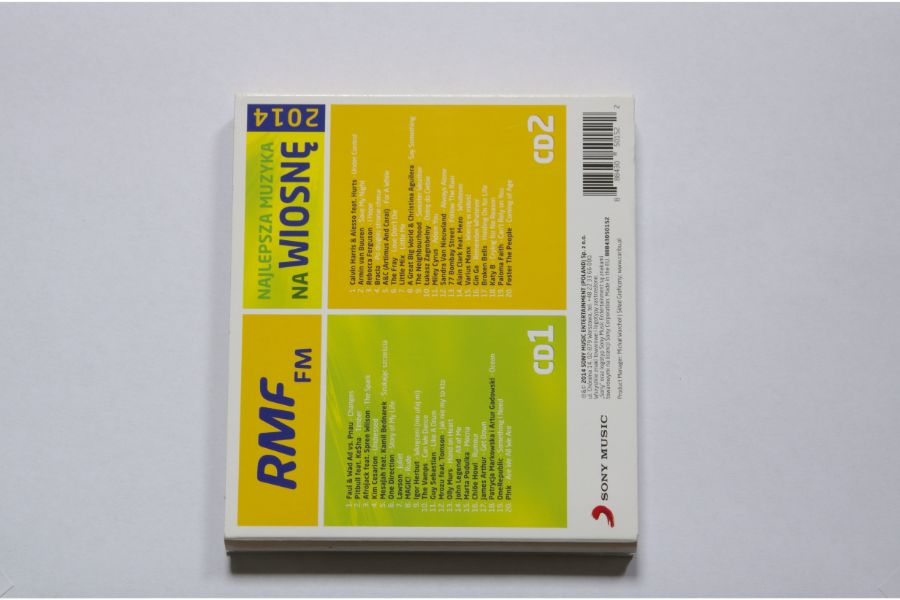album: (224, 86, 644, 558)
